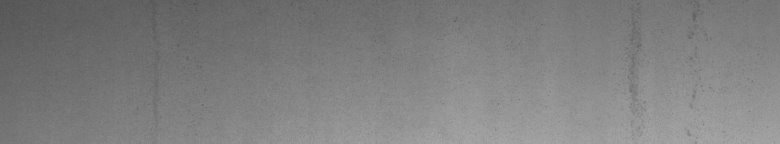ib: (630, 13, 699, 98)
